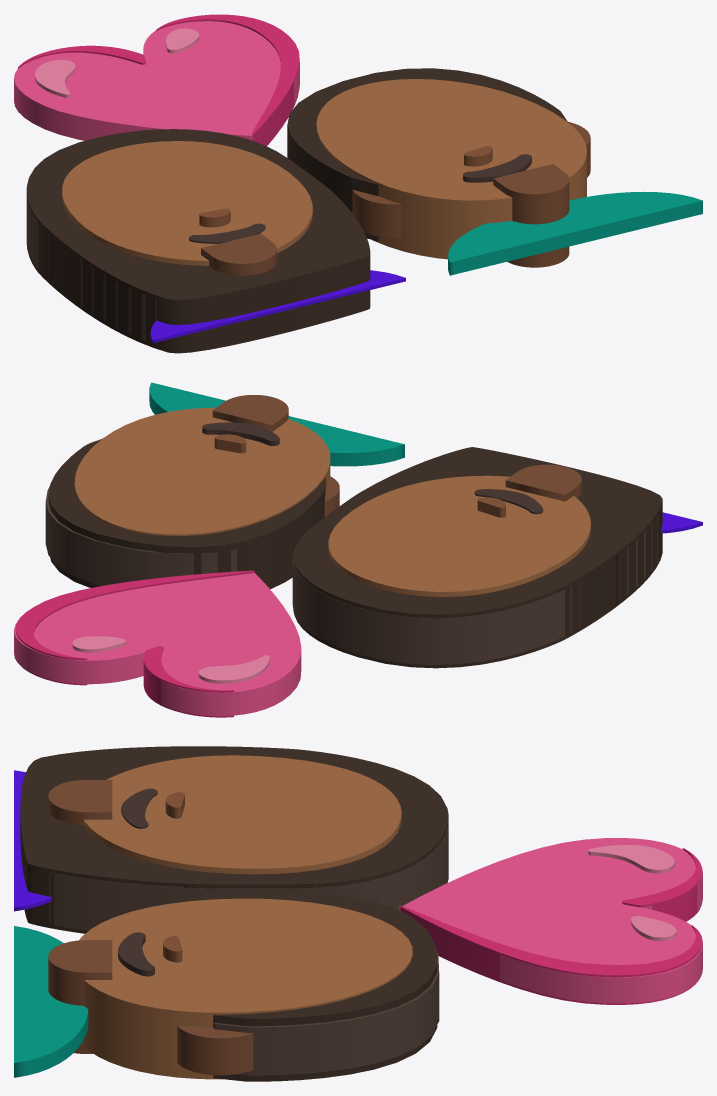
Rendered from emoji_u1f469_1f3fe_200d_2764_200d_1f468_1f3fe.glb.
3 views of the same model, one above another, from view 1: azimuth 30°, elevation 25°; view 2: azimuth 150°, elevation 25°; view 3: azimuth 270°, elevation 25° (orthographic). The views are drawn at different scales.
Visible parts, largest first — view 1: emoji_u1f469_1f3fe_200d_2764_200d_1f468_1f3fe; view 2: emoji_u1f469_1f3fe_200d_2764_200d_1f468_1f3fe; view 3: emoji_u1f469_1f3fe_200d_2764_200d_1f468_1f3fe.
Part boxes in pixels (bbox=[...]): emoji_u1f469_1f3fe_200d_2764_200d_1f468_1f3fe: bbox=[14, 14, 702, 353]; emoji_u1f469_1f3fe_200d_2764_200d_1f468_1f3fe: bbox=[14, 382, 702, 717]; emoji_u1f469_1f3fe_200d_2764_200d_1f468_1f3fe: bbox=[14, 746, 702, 1081].
Bounding box in the file's own units: 0.0346 × 0.005 × 0.0337.
